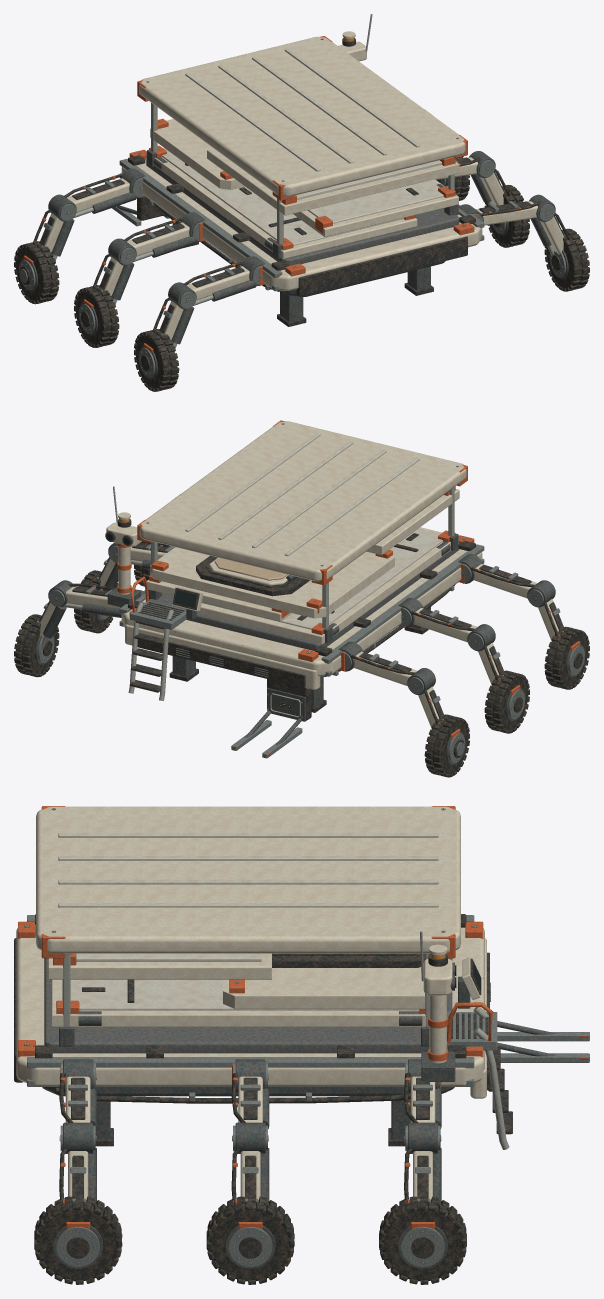
File: Walker_1_Remake.glb
The picture shows the model from 3 angles, top to bottom: view 1: azimuth 30°, elevation 25°; view 2: azimuth 150°, elevation 25°; view 3: azimuth 270°, elevation 25°; orthographic projection. The views are drawn at different scales.
Parts seen in each view (by area): view 1: Roof_rover_white, frame_rover_white, Body_graphite, RearWall_rover_white, SideWall_L_rover_white, Roof_white_painted, SideWall_L_white_painted, HabitatModule_slate_panel, SideWall_R_white_painted, EntryWall_rover_white, Body_alloy, SideWall_R_rover_white (+20 smaller); view 2: Roof_rover_white, EntryWall_rover_white, frame_rover_white, Body_graphite, Body_alloy, SideWall_L_rover_white, Roof_white_painted, Body_rover_white, Body_dark_alloy, SideWall_L_white_painted, HabitatModule_slate_panel, Wheel_3_black_rubber (+16 smaller); view 3: Roof_rover_white, frame_rover_white, HabitatModule_slate_panel, Roof_white_painted, EntryWall_rover_white, Body_alloy, SideWall_R_rover_white, Body_dark_alloy, SideWall_R_white_painted, Wheel_2_black_rubber, Wheel_6_black_rubber, Wheel_4_black_rubber (+18 smaller).
Part boxes in pixels (x1,y1,x2,y2): Roof_rover_white: (139, 36, 465, 196); frame_rover_white: (121, 158, 482, 290); Body_graphite: (128, 152, 475, 326); RearWall_rover_white: (207, 148, 459, 215); SideWall_L_rover_white: (146, 148, 417, 259); Roof_white_painted: (185, 48, 419, 171); SideWall_L_white_painted: (162, 149, 403, 245); HabitatModule_slate_panel: (146, 159, 459, 265); SideWall_R_white_painted: (307, 180, 443, 223); EntryWall_rover_white: (150, 119, 244, 189); Body_alloy: (112, 159, 484, 291); SideWall_R_rover_white: (293, 179, 458, 236); Roof_rover_white: (139, 421, 466, 581); EntryWall_rover_white: (150, 547, 394, 618); frame_rover_white: (121, 544, 482, 676); Body_graphite: (128, 538, 475, 743); Body_alloy: (119, 537, 484, 758); SideWall_L_rover_white: (196, 527, 458, 644); Roof_white_painted: (185, 433, 419, 556); Body_rover_white: (106, 522, 320, 689); Body_dark_alloy: (105, 531, 465, 745); SideWall_L_white_painted: (203, 528, 442, 629); HabitatModule_slate_panel: (149, 543, 459, 650); Wheel_3_black_rubber: (484, 670, 529, 733); Roof_rover_white: (36, 806, 460, 953); frame_rover_white: (16, 927, 484, 1086); HabitatModule_slate_panel: (44, 958, 452, 1053); Roof_white_painted: (58, 833, 438, 907); EntryWall_rover_white: (223, 967, 425, 1008); Body_alloy: (19, 915, 589, 1101); SideWall_R_rover_white: (51, 979, 425, 1026); Body_dark_alloy: (24, 925, 555, 1139); SideWall_R_white_painted: (62, 979, 419, 1010); Wheel_2_black_rubber: (379, 1196, 466, 1284); Wheel_6_black_rubber: (34, 1196, 122, 1284); Wheel_4_black_rubber: (206, 1196, 294, 1284).
Size of the model in its own units: 6.83 by 3.07 by 5.43.
12 materials, 10 textured.
